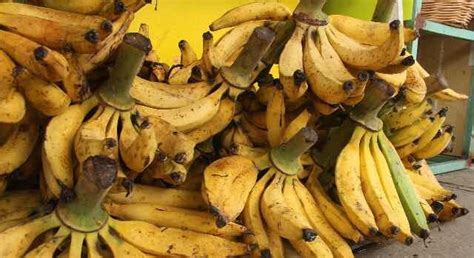banana: (42, 91, 96, 205), (109, 199, 253, 241), (379, 133, 432, 242), (291, 172, 353, 258), (334, 140, 384, 238), (326, 17, 406, 71), (1, 27, 74, 86), (263, 175, 321, 248), (361, 140, 400, 237), (205, 1, 295, 35), (277, 24, 311, 102), (119, 113, 157, 175)
